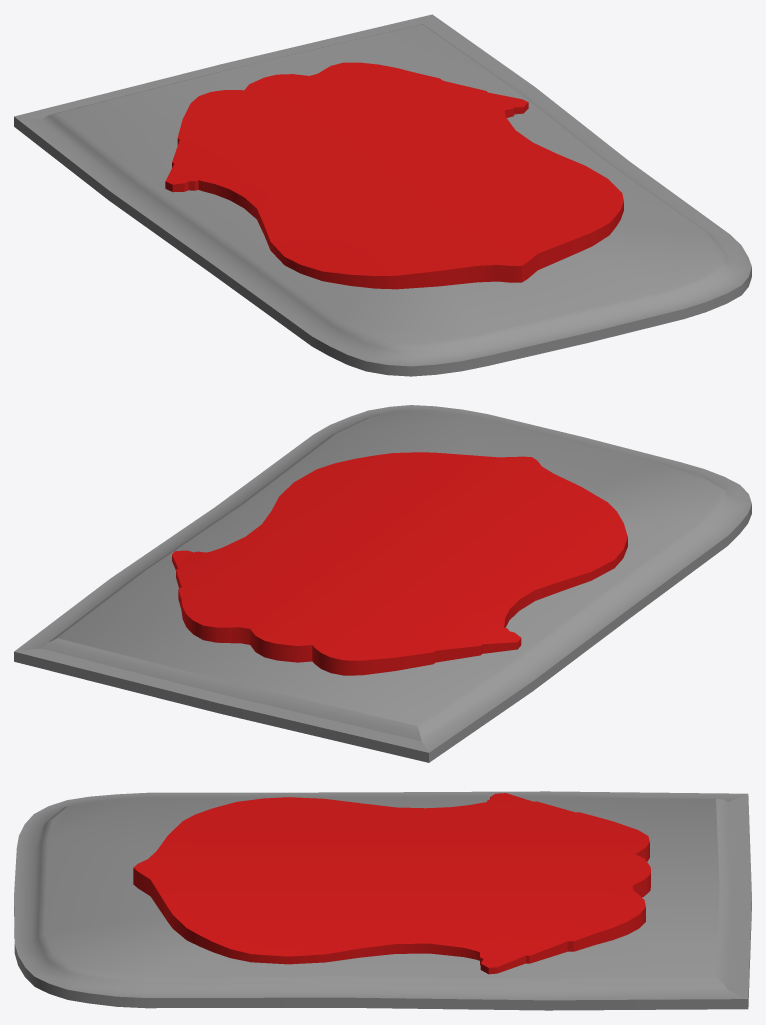
Rendered from Badge.FBX.
3 renders of one model, top to bottom at view 1: azimuth 30°, elevation 25°; view 2: azimuth 150°, elevation 25°; view 3: azimuth 270°, elevation 25°, orthographic.
Visible parts, largest first — view 1: Box003; view 2: Box003; view 3: Box003.
Boxes of the visible parts, x1,y1,x2,y2 form: Box003: (14,14,751,376); Box003: (14,405,751,762); Box003: (14,791,751,1010).
Bounding box in the file's own units: 11.11 × 0.8817 × 16.59.
